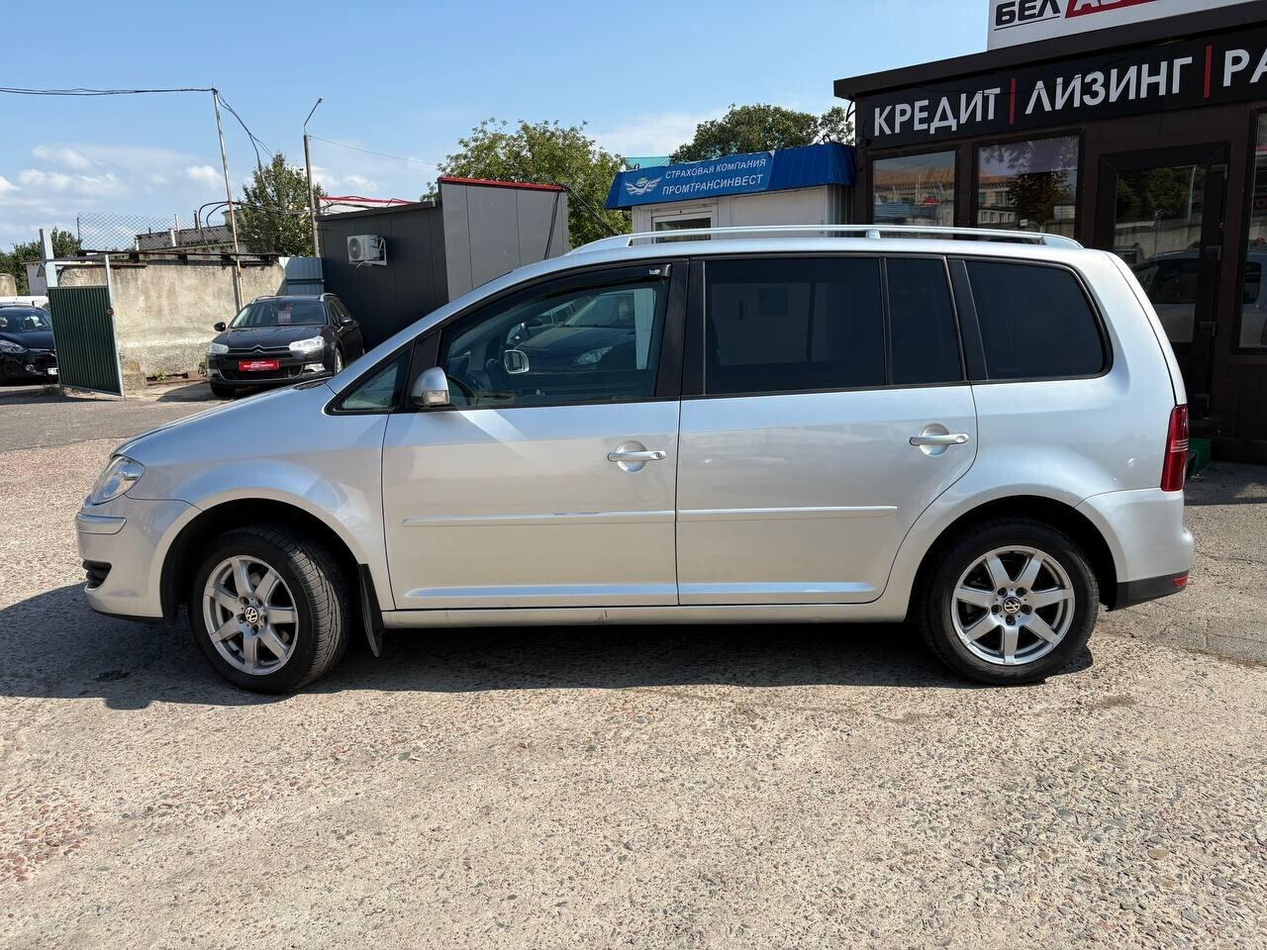Touran_2006-2010: (74, 226, 1198, 696)
